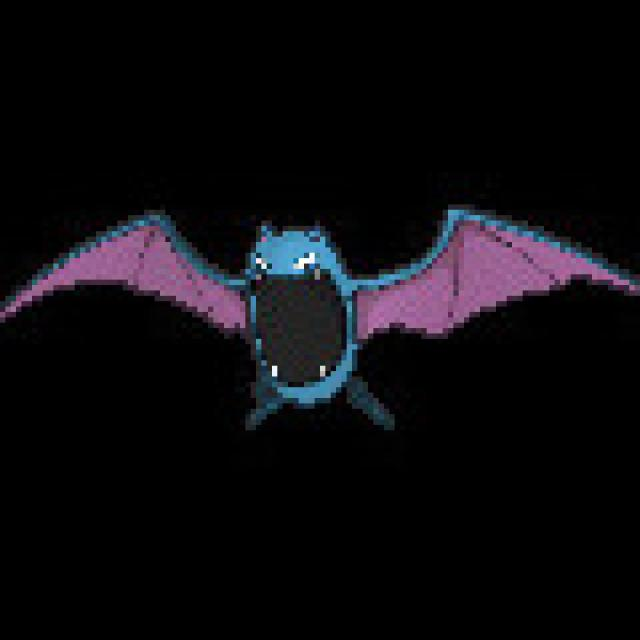Golbat: (41, 212, 576, 409)
